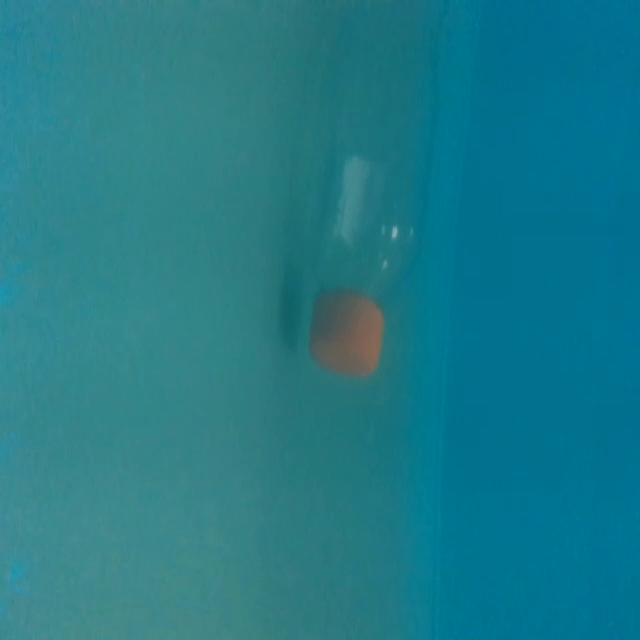plastic bottle: (307, 16, 436, 387)
